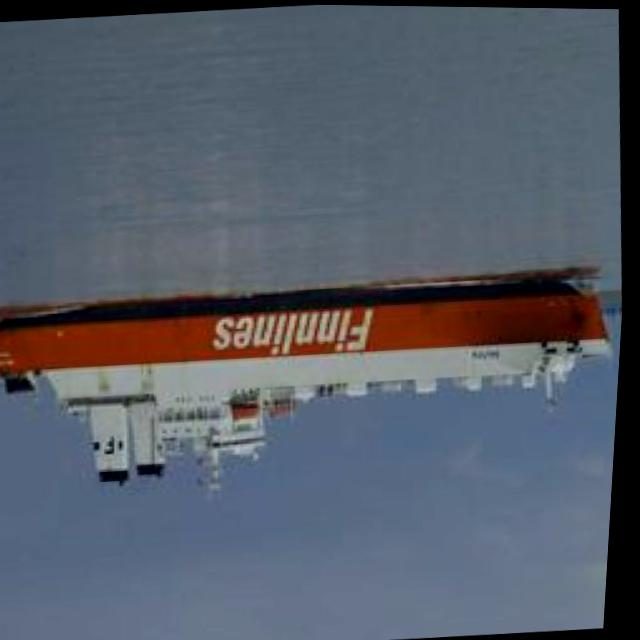ship2: (0, 276, 616, 491)
